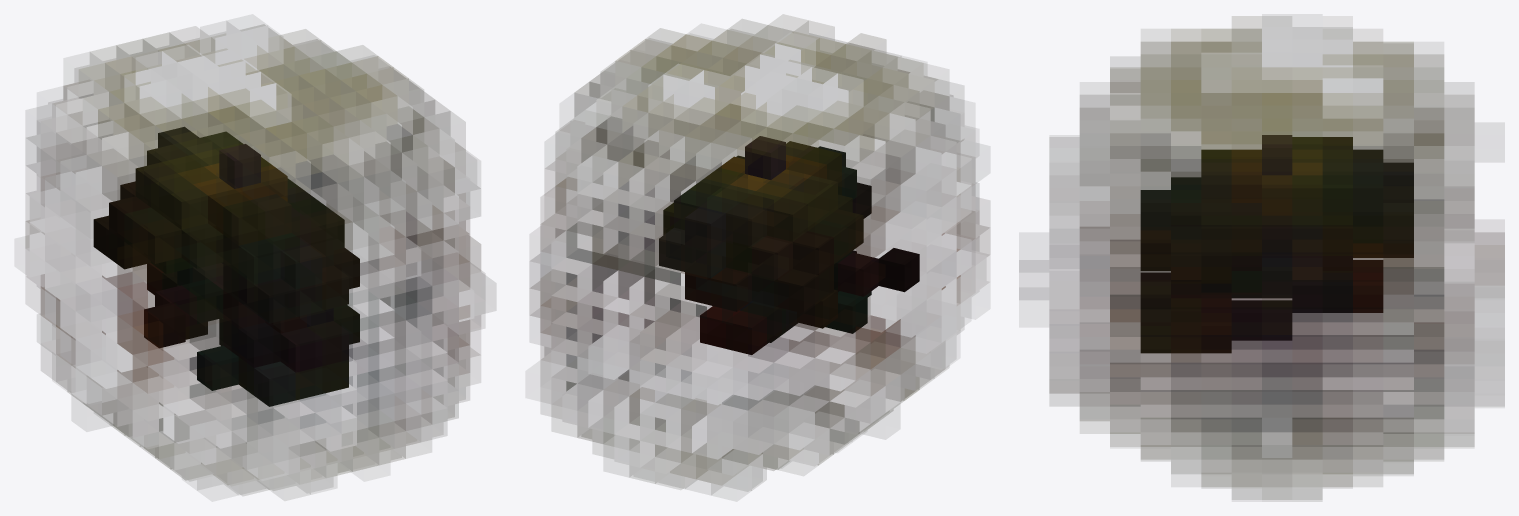
The model's file is iter_30.obj.
3 views of the same model, side by side, from view 1: azimuth 30°, elevation 25°; view 2: azimuth 150°, elevation 25°; view 3: azimuth 270°, elevation 25° (orthographic). The views are drawn at different scales.
Parts seen in each view (by area): view 1: iter_30; view 2: iter_30; view 3: iter_30.
Boxes of the visible parts, box(x1,y1,x2,y2) form: iter_30: box(25, 21, 485, 495); iter_30: box(529, 19, 989, 494); iter_30: box(1019, 16, 1504, 499).
Bounding box in the file's own units: 1.4 × 1.4 × 1.6.
